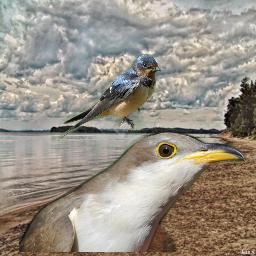Cuckoo: (19, 131, 245, 252)
Swallow: (57, 54, 161, 142)
